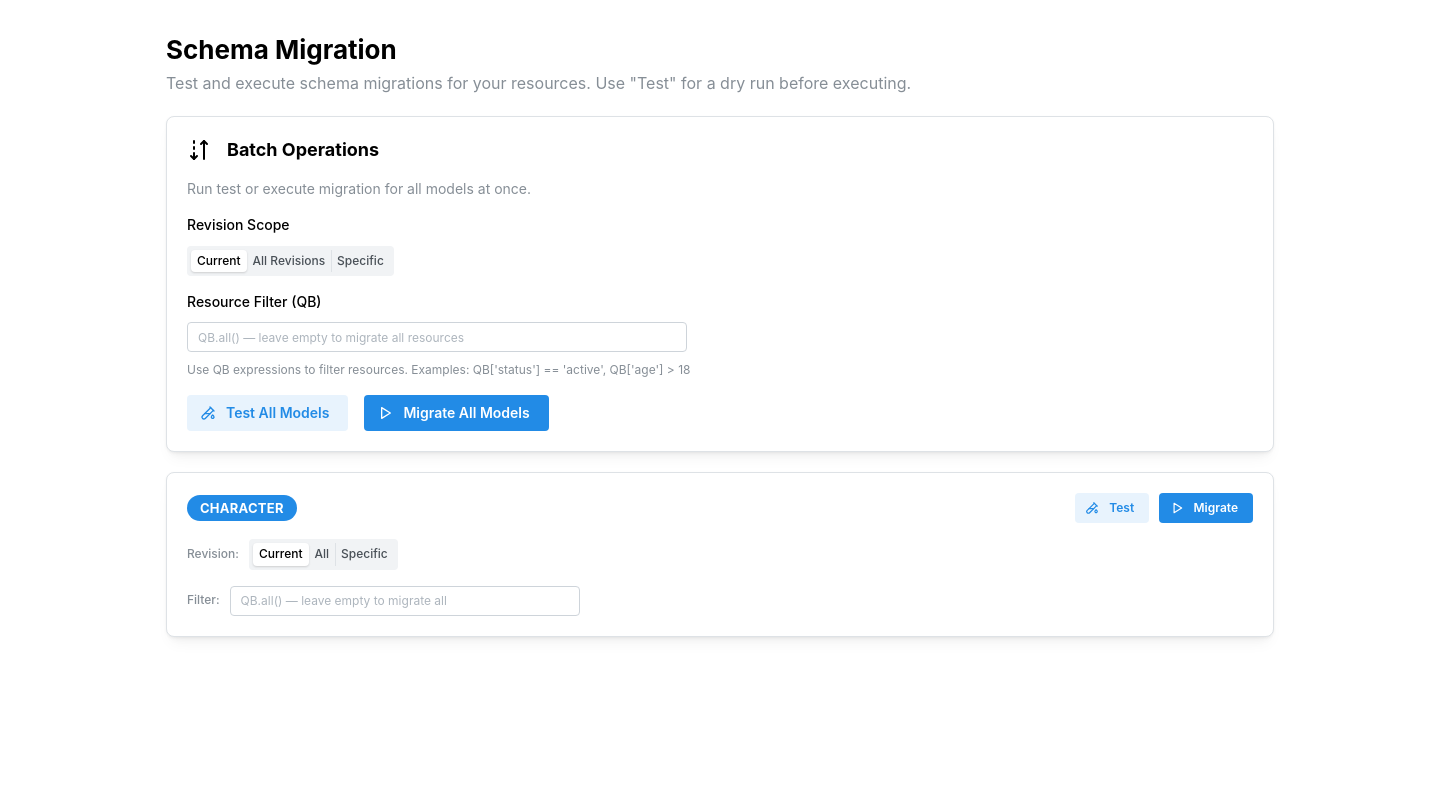
Test: MigrationStatus › batch operations › shows success alert after Migrate All completes
The image size is (1440, 810).
Click the button "Migrate All Models". click: x=457, y=413
box: [364, 395, 549, 431]
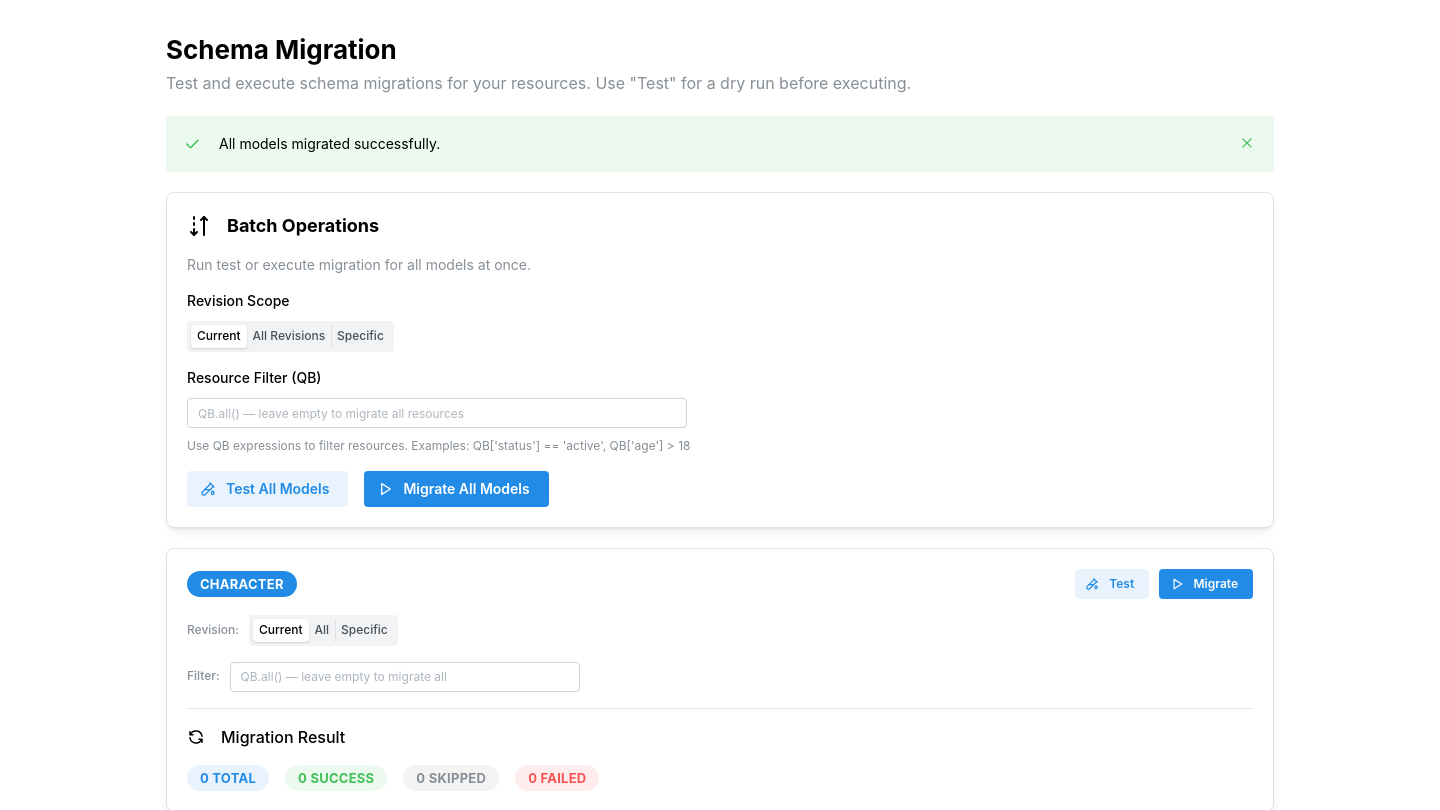
Expected: the text "All models migrated successfully." is shown, [219, 135, 440, 152]
